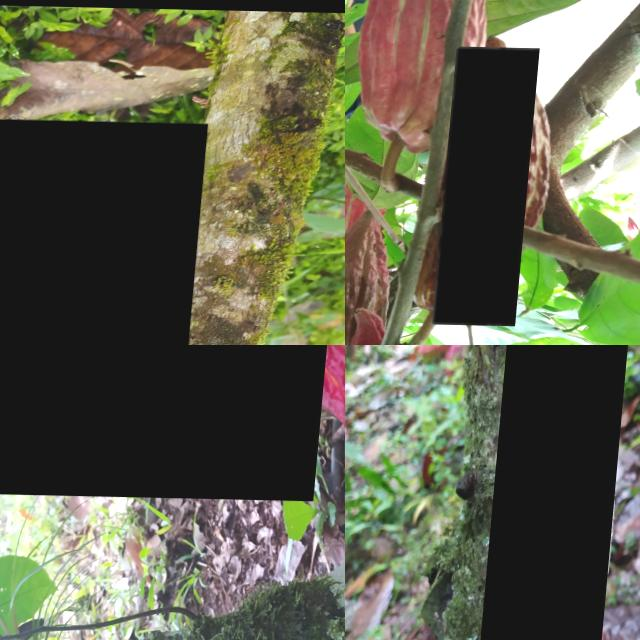Fitoftora: (0, 117, 210, 345), (440, 45, 542, 324), (345, 254, 397, 302)
Monilia: (482, 345, 631, 640)
Sana: (0, 345, 333, 499), (357, 0, 493, 148)
